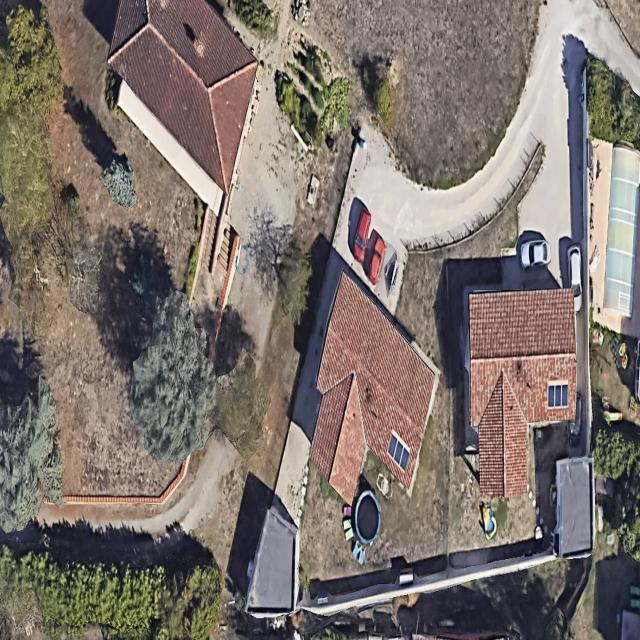maison: (67, 0, 318, 219), (288, 271, 456, 523), (466, 290, 578, 496)
